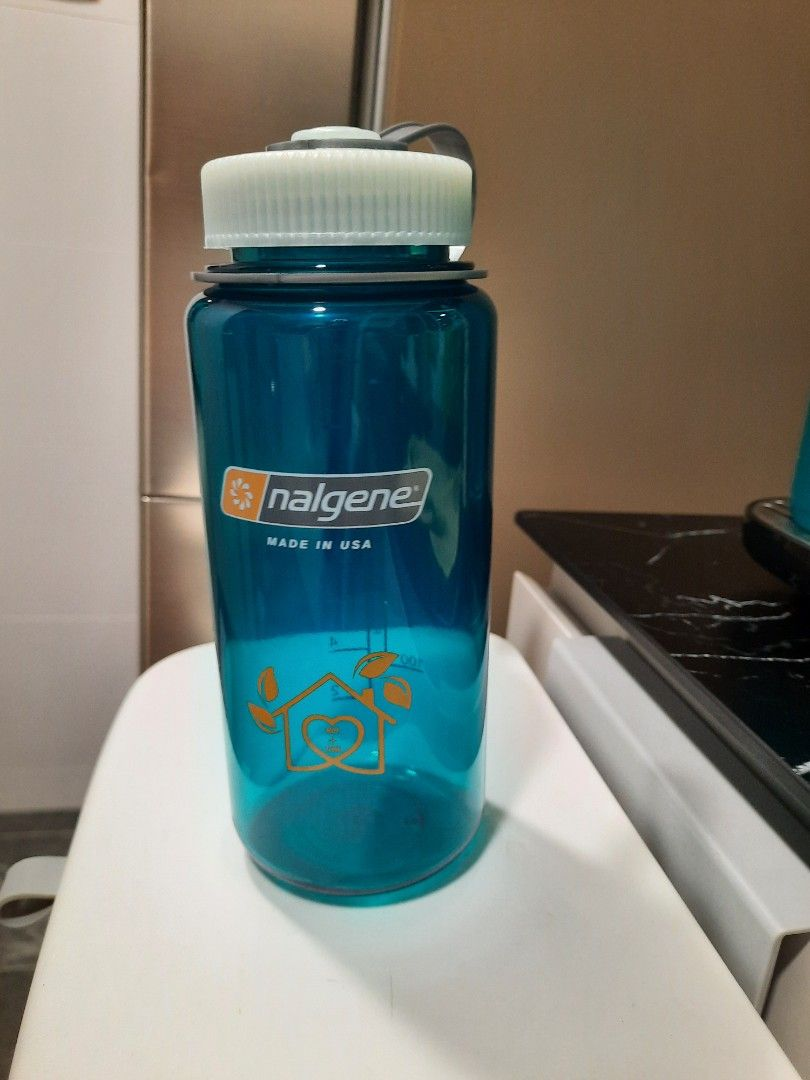waterbottle: (181, 118, 501, 913)
